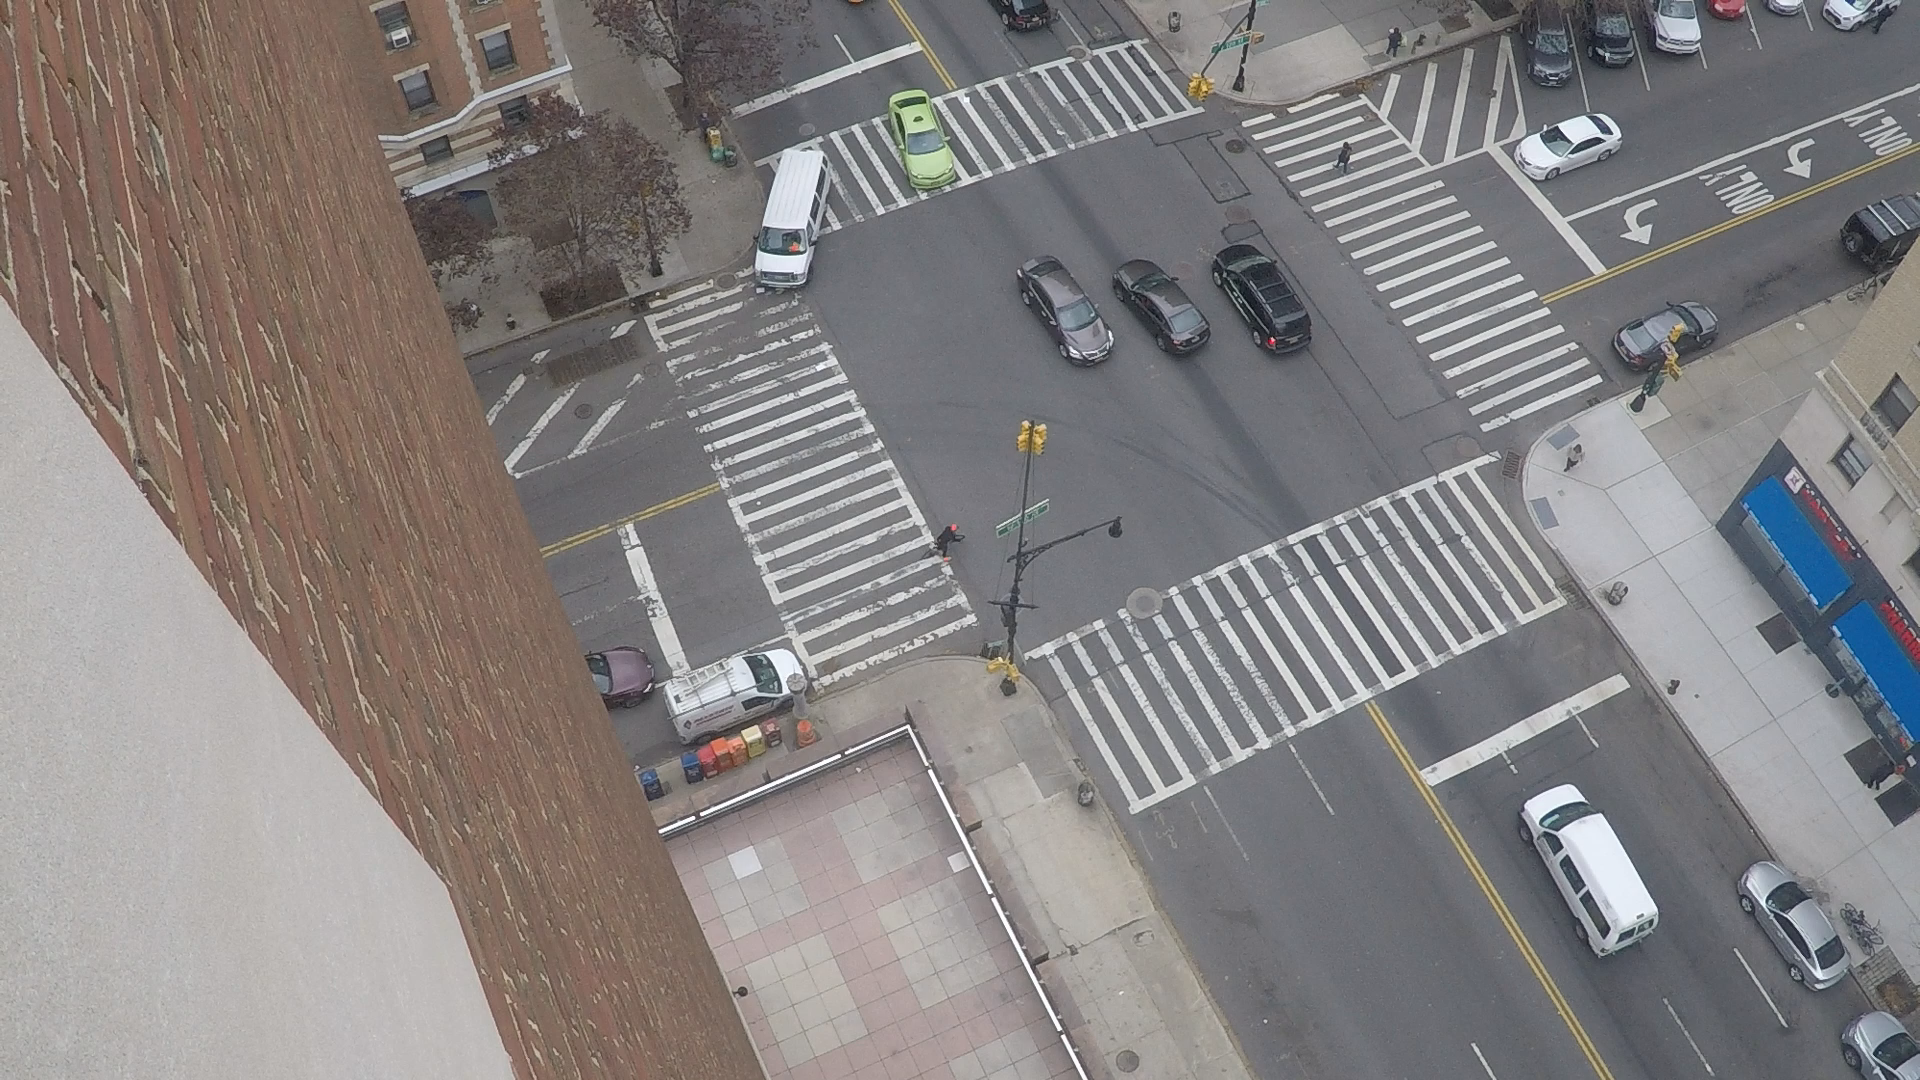Car: (938, 111, 945, 136), (1044, 0, 1051, 13), (1760, 0, 1764, 5), (1643, 0, 1644, 9), (1704, 0, 1705, 7)
